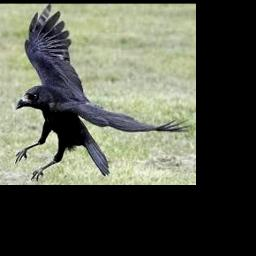Crow: (15, 4, 189, 180)
